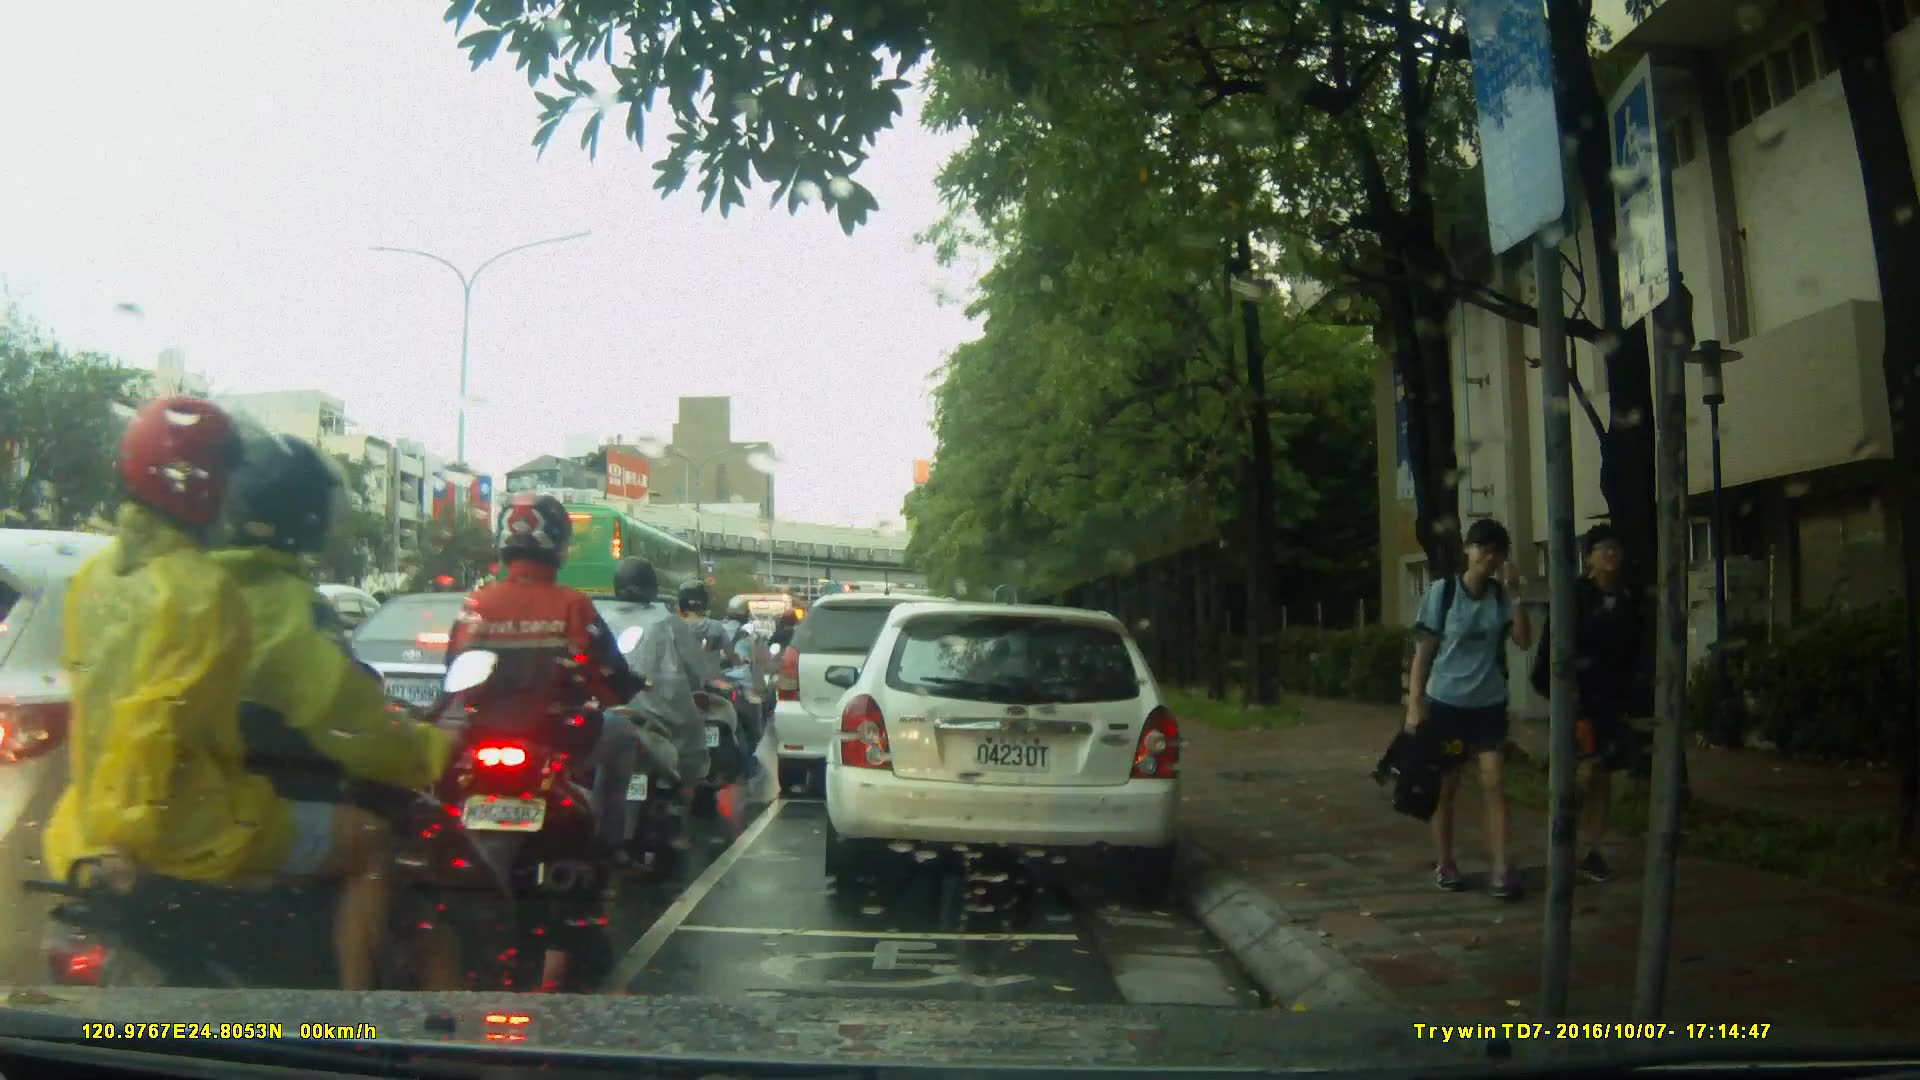pedestrian: (1371, 520, 1548, 903), (1532, 526, 1670, 897)
rider: (41, 393, 501, 1080), (436, 482, 648, 962), (580, 556, 737, 872), (660, 574, 740, 804), (708, 593, 781, 749), (767, 603, 811, 718)
vehicle: (1, 530, 456, 988), (831, 592, 1196, 897), (322, 590, 629, 776), (770, 590, 999, 803), (495, 501, 707, 636)
